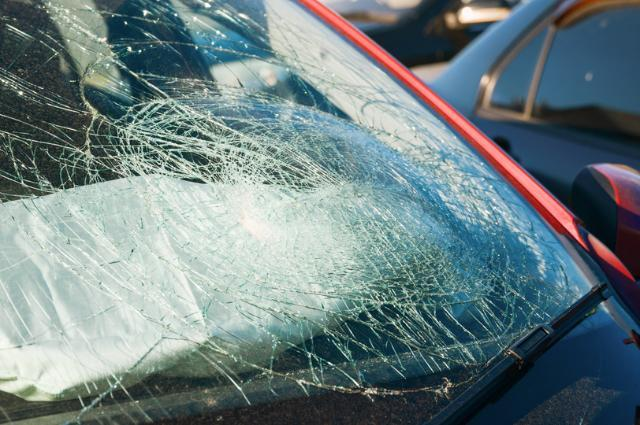Windshield: (0, 3, 635, 425)
